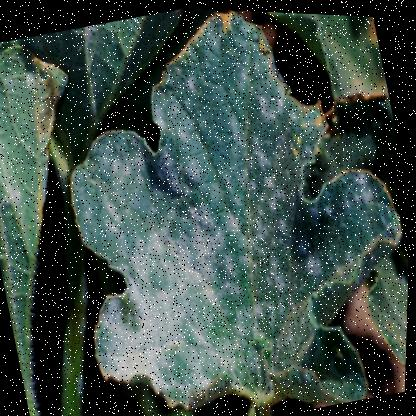PowderyMildew: (175, 100, 308, 254), (114, 224, 231, 372), (210, 233, 323, 375)
